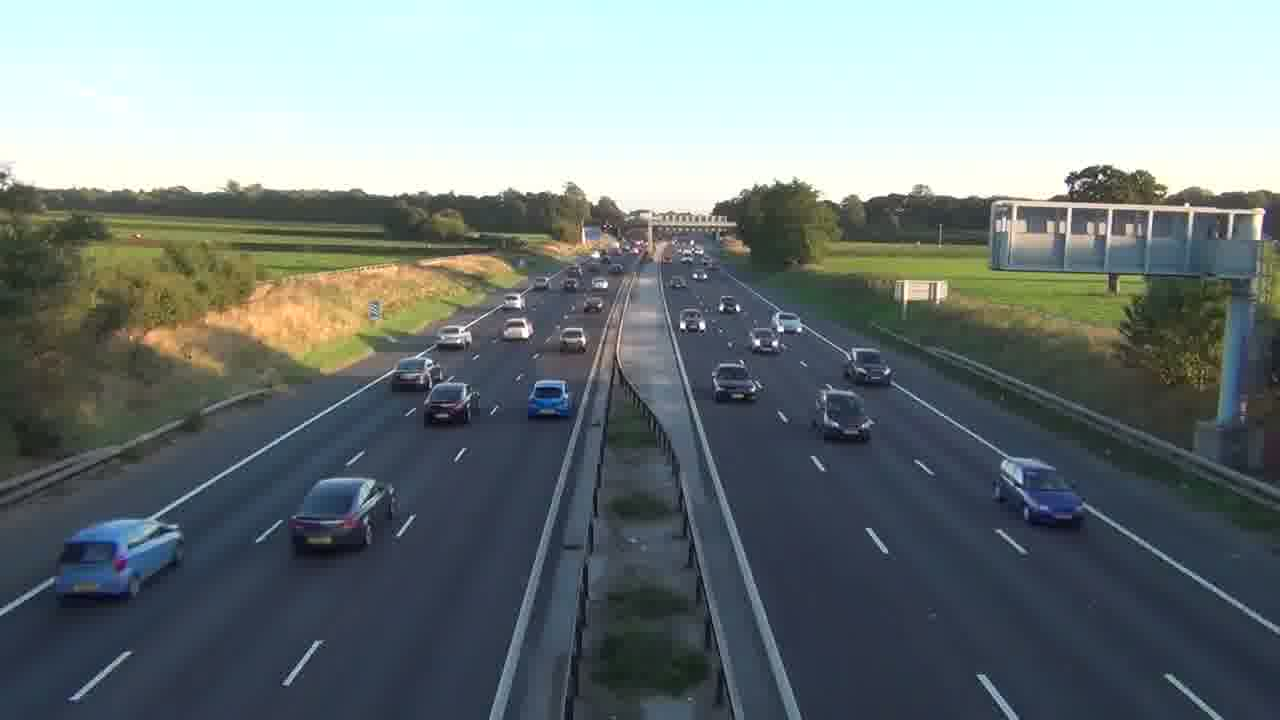car: (288, 475, 397, 553), (992, 455, 1086, 528), (423, 380, 480, 425), (711, 360, 765, 402), (843, 347, 893, 386), (527, 378, 572, 419), (558, 325, 588, 354), (501, 317, 534, 341)
truck: (54, 518, 184, 602)
